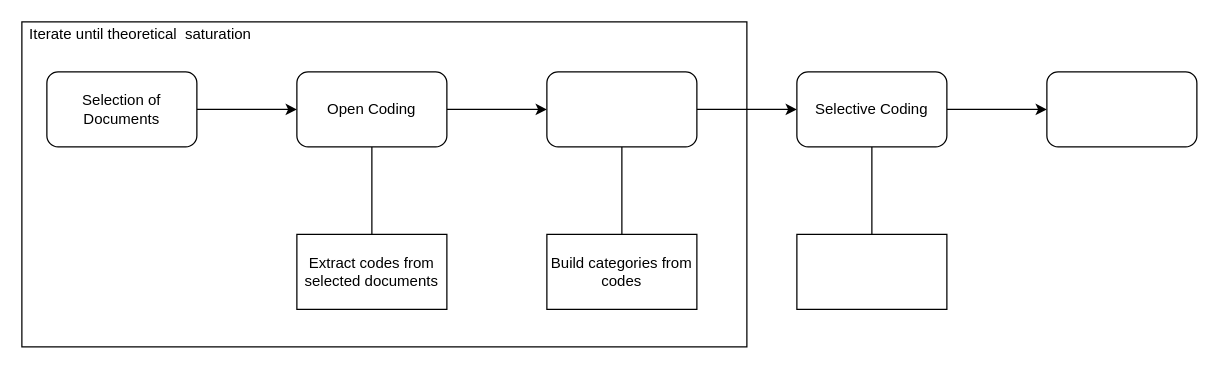
The diagram is 1219 pixels wide and 379 high, and some of its shapes have lost their labels. Here are the shapes that lost their labels. From the top down, the centre of each, then its label:
At (x=621, y=109): "Axial Coding".
At (x=1121, y=109): "Textual description of themes, codes and categories".
At (x=871, y=271): "Define higher order themes and their relationships".
